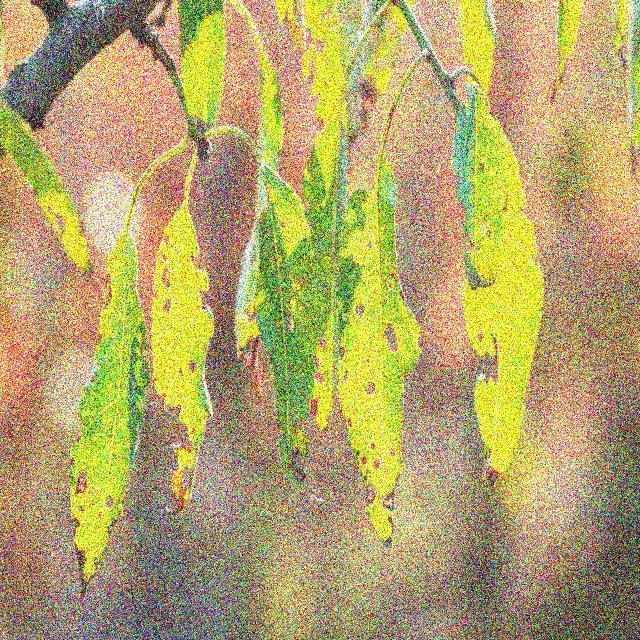shot_hole: (324, 162, 433, 549), (136, 166, 244, 553)
